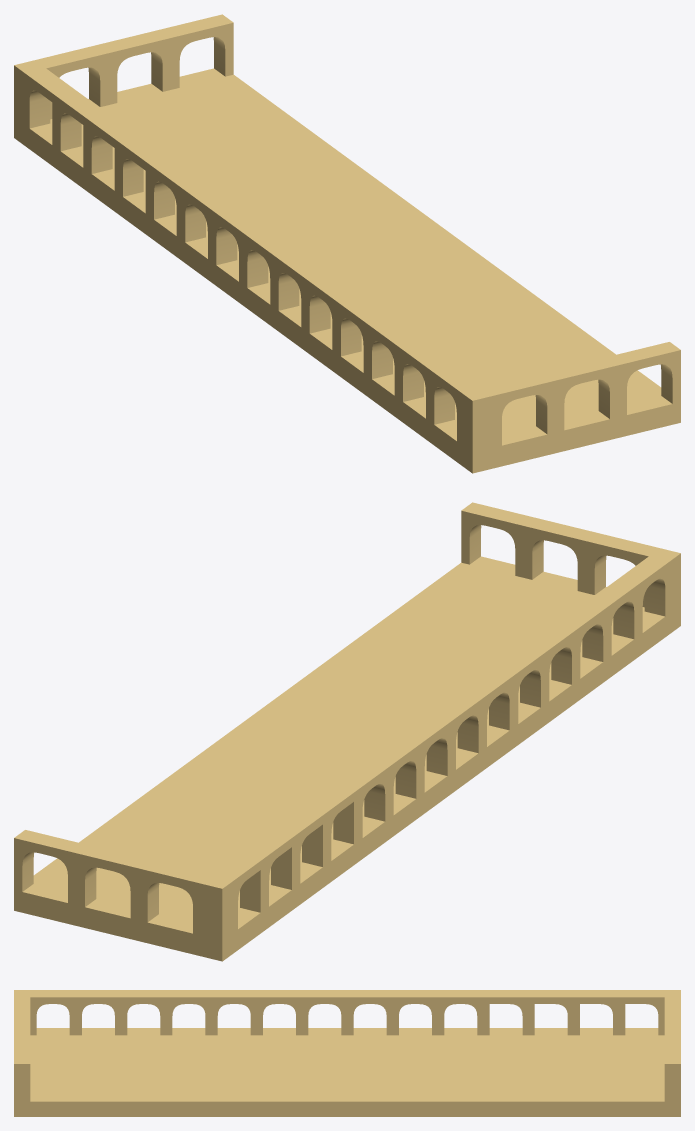
File: Terrase.fbx
3 renders of one model, top to bottom at view 1: azimuth 30°, elevation 25°; view 2: azimuth 150°, elevation 25°; view 3: azimuth 270°, elevation 25°, orthographic. The views are drawn at different scales.
Parts seen in each view (by area): view 1: Terrase; view 2: Terrase; view 3: Terrase.
Part boxes in pixels (box(x1,y1,x2,y2)): Terrase: box(14, 14, 680, 473); Terrase: box(14, 502, 680, 961); Terrase: box(14, 990, 680, 1116).
Size of the model in its own units: 5.67 by 1.89 by 21.62.
